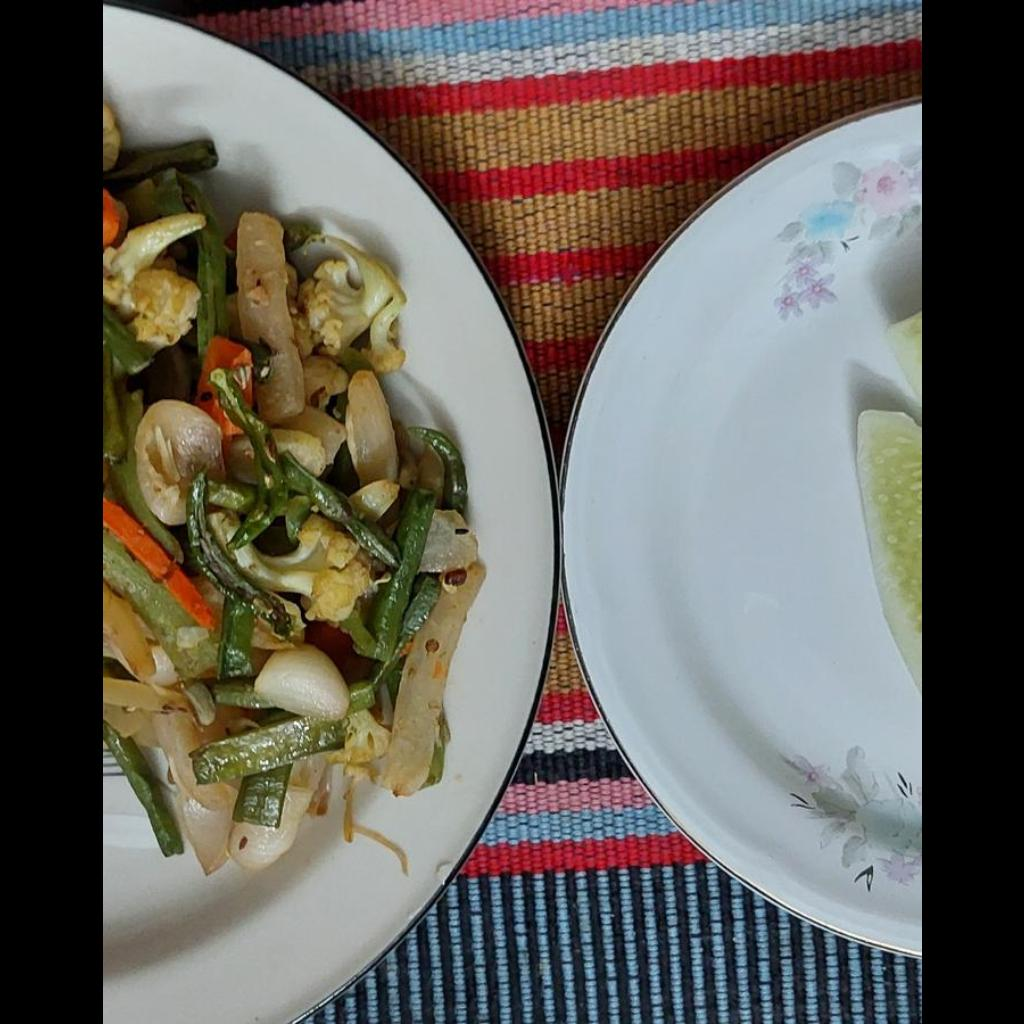cucumber: (856, 410, 920, 693), (887, 311, 920, 407)
vegetable: (102, 103, 477, 876)
